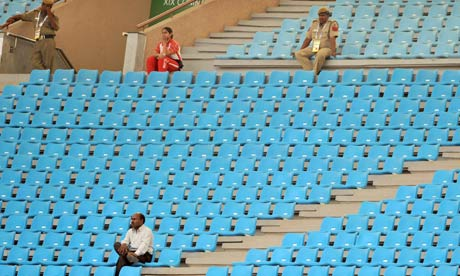Person: (289, 7, 338, 73), (113, 212, 153, 276), (145, 26, 183, 72)
